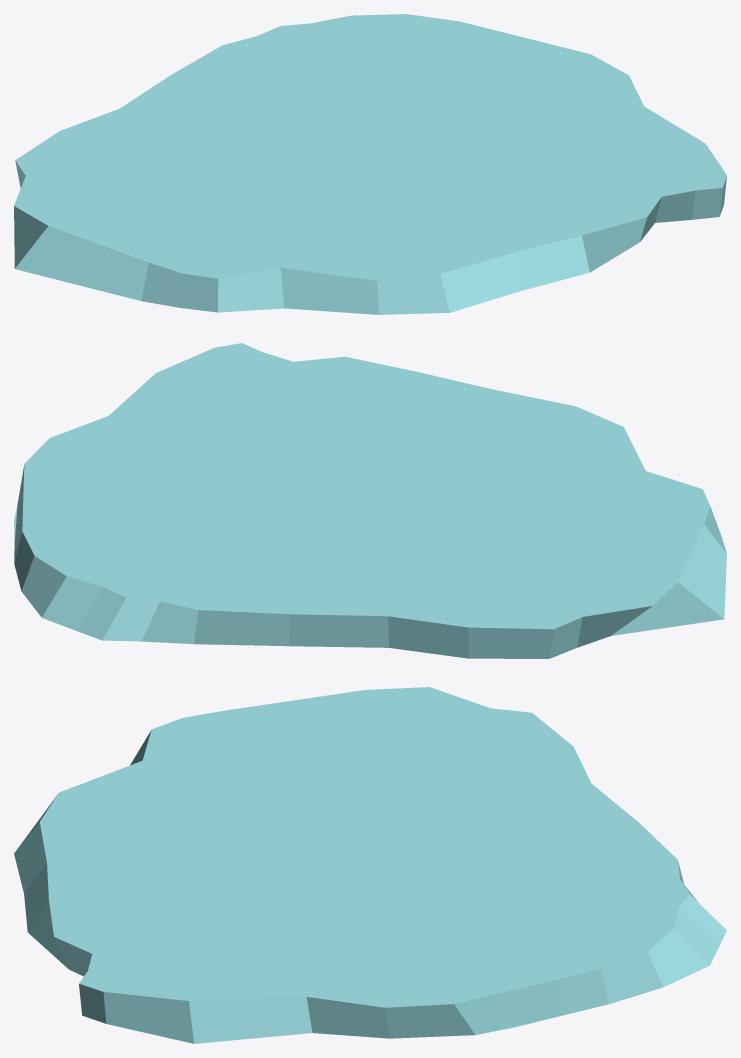
The model's file is Lake1.fbx.
3 renders of one model, top to bottom at view 1: azimuth 30°, elevation 25°; view 2: azimuth 150°, elevation 25°; view 3: azimuth 270°, elevation 25°, orthographic. The views are drawn at different scales.
Parts seen in each view (by area): view 1: Cube; view 2: Cube; view 3: Cube.
Part boxes in pixels (bbox=[...]): Cube: bbox=[14, 14, 726, 314]; Cube: bbox=[14, 343, 726, 658]; Cube: bbox=[14, 687, 726, 1043].
Size of the model in its own units: 327 by 14.68 by 288.
